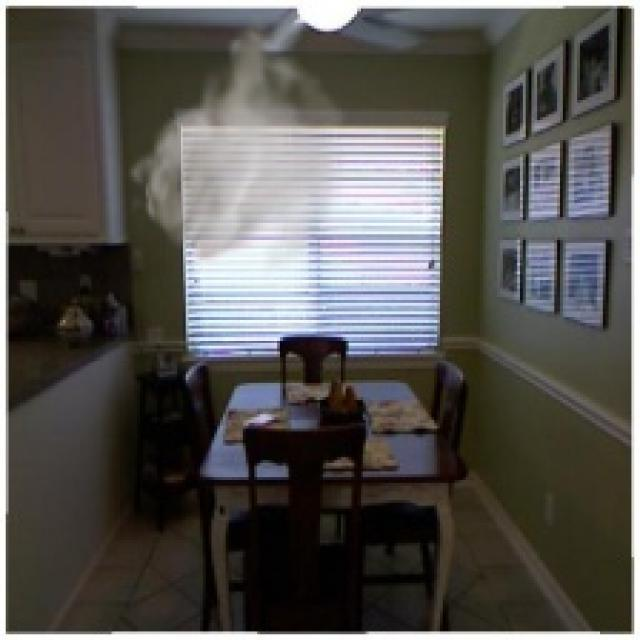smoke: (126, 8, 351, 286)
